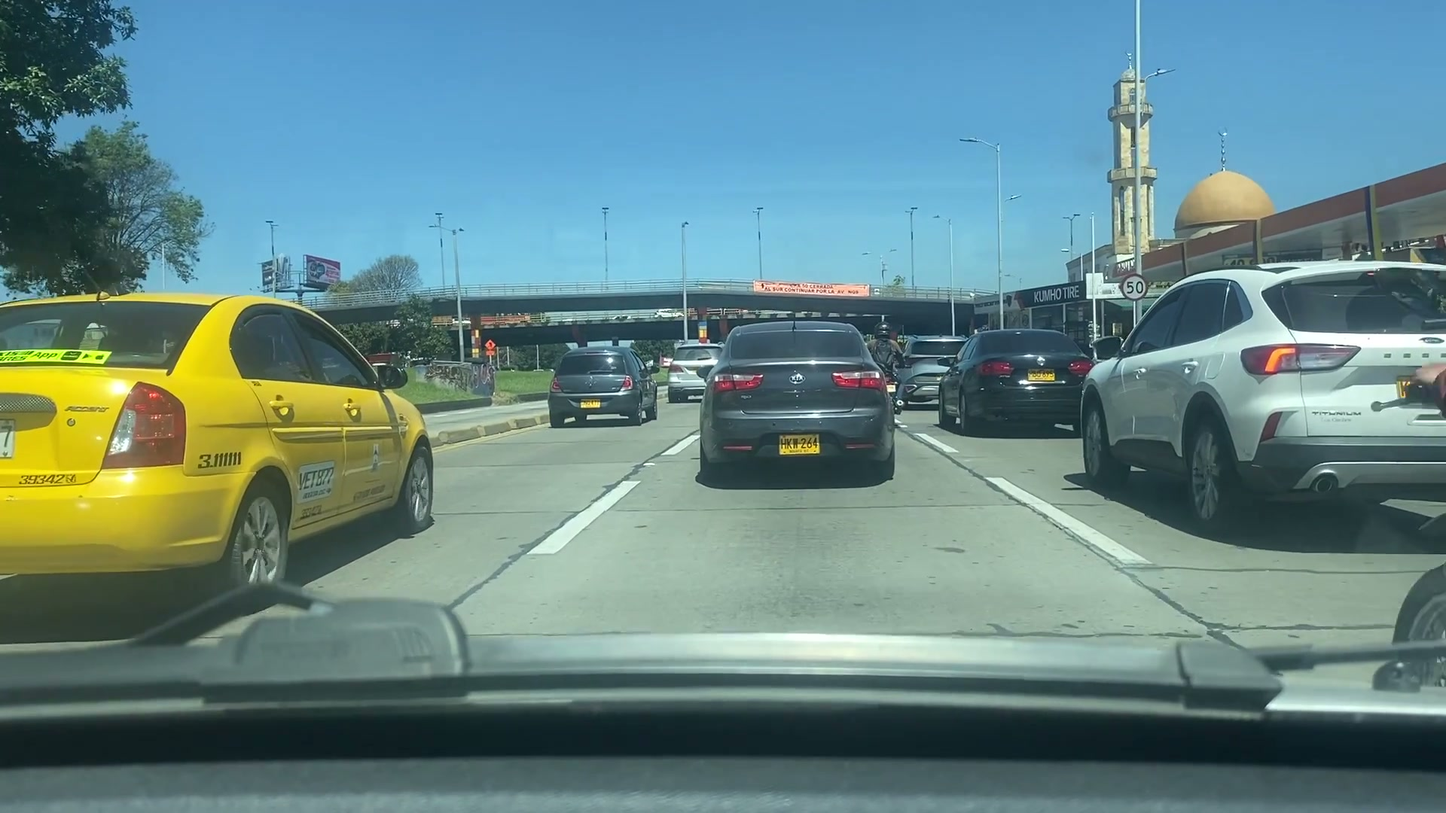car: (0, 294, 437, 590), (1081, 262, 1445, 532), (698, 322, 893, 479), (942, 328, 1093, 431), (544, 348, 661, 425), (903, 332, 969, 401), (669, 344, 729, 401)
person: (868, 320, 899, 393)
